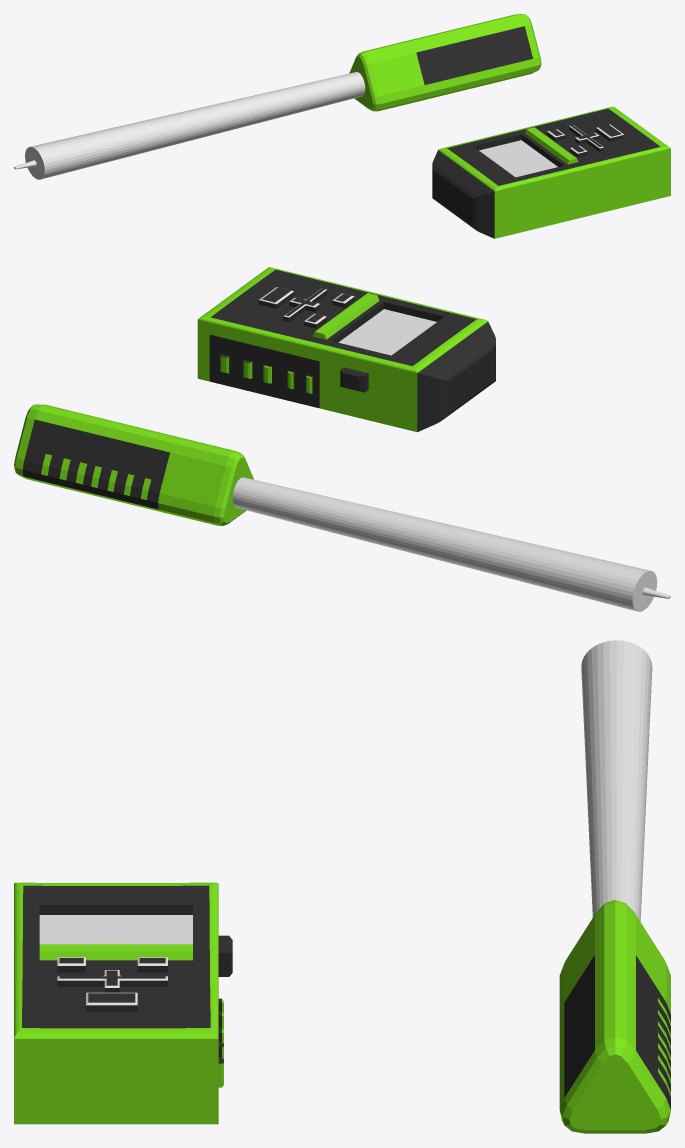
Rendered from тру палка ковырялка.fbx.
The picture shows the model from 3 angles, top to bottom: view 1: azimuth 30°, elevation 25°; view 2: azimuth 150°, elevation 25°; view 3: azimuth 270°, elevation 25°; orthographic projection. The views are drawn at different scales.
Visible parts, largest first — view 1: Cube, Cylinder.001, Cylinder; view 2: Cube, Cylinder.001, Cylinder; view 3: Cube, Cylinder.001, Cylinder.
Part boxes in pixels (x1,y1,x2,y2): Cube: (432,106,670,238); Cylinder.001: (349,14,541,111); Cylinder: (14,72,365,179); Cube: (197,267,495,432); Cylinder.001: (14,404,253,525); Cylinder: (232,477,670,611); Cube: (14,882,232,1124); Cylinder.001: (559,900,670,1133); Cylinder: (581,640,652,921).
Bounding box in the file's own units: 2172 × 225 × 1335.
